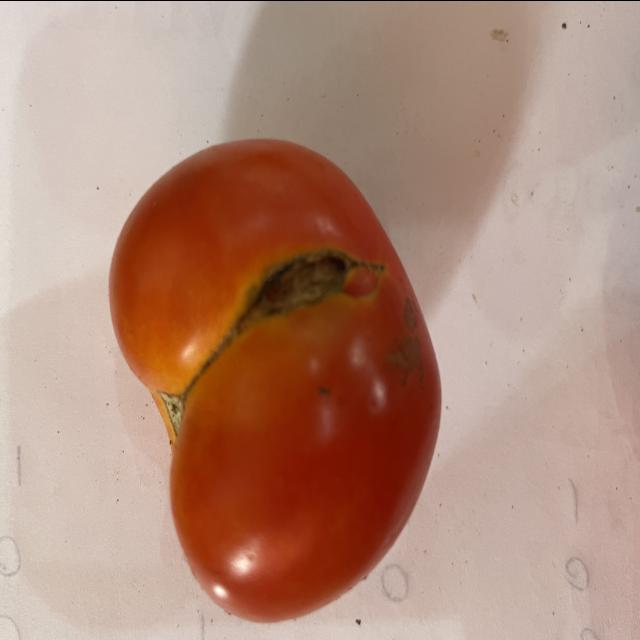tomato_cracking: (161, 233, 379, 417)
